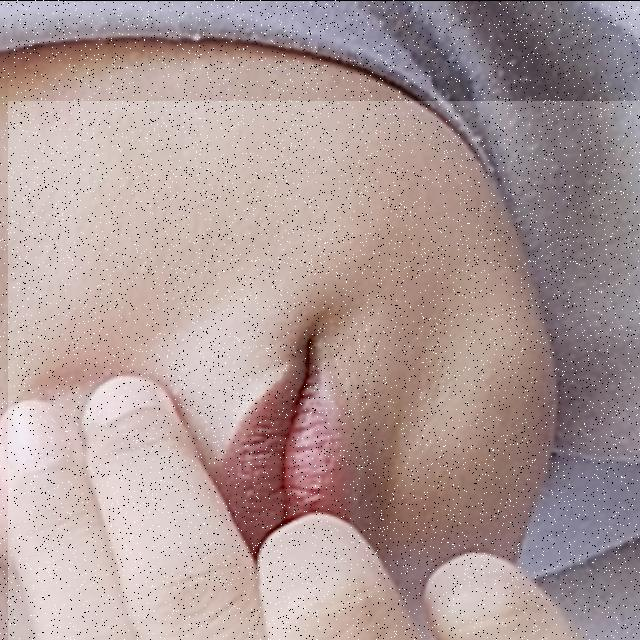bau: (8, 100, 640, 640)
